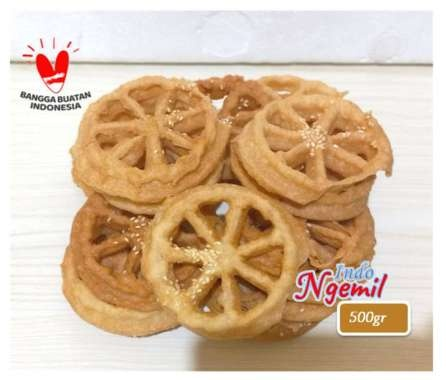kembang_goyang: (146, 181, 294, 338)
